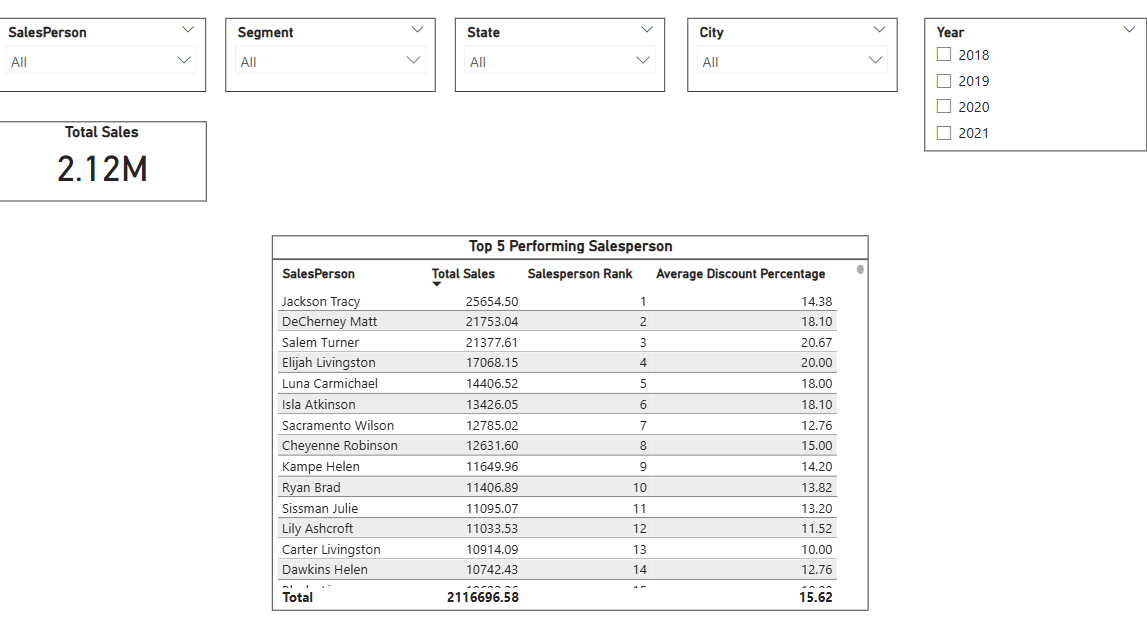

What the dashboard file says about the page in this screenshot:
{"tool":"powerbi","page":{"name":"Top Salespersons","canvas":[1280,720],"ordinal":4},"visuals":[{"type":"tableEx","title":"Top 5 Performing Salesperson","fields":{"Values":["SalesPerson.Sales_person","Orders.Total Sales","SalesPerson.Salesperson_Rank","Orders.Average_Discount_Percentage"]},"box":[306.9,261.6,662.7,416.8],"z":0},{"type":"slicer","fields":{"Values":["Orders.Year"]},"box":[1032.4,19.2,247.6,148.2],"z":1000},{"type":"slicer","fields":{"Values":["Orders.City"]},"box":[768.3,20,233.3,81.7],"z":2000},{"type":"slicer","fields":{"Values":["Orders.Segment"]},"box":[255,20,233.3,81.7],"z":3000},{"type":"slicer","fields":{"Values":["Sales Target.State"]},"box":[510,20,233.3,81.7],"z":4000},{"type":"slicer","fields":{"Values":["SalesPerson.Sales_person"]},"box":[0,20,233.3,81.7],"z":5000},{"type":"card","title":"Total Sales","fields":{"Values":["Orders.Total Sales"]},"box":[0,134.3,233.7,88.9],"z":6000}]}

Visuals, with their boxes in screenshot pixels (x1, y1, x2, y2), scaled from the page's 1280x720 canvas onto the 1147x643 screenshot:
"Top 5 Performing Salesperson" tableEx: [left=275, top=234, right=869, bottom=606]
slicer - Orders.Year: [left=925, top=17, right=1146, bottom=149]
slicer - Orders.City: [left=688, top=18, right=898, bottom=91]
slicer - Orders.Segment: [left=229, top=18, right=438, bottom=91]
slicer - Sales Target.State: [left=457, top=18, right=666, bottom=91]
slicer - SalesPerson.Sales_person: [left=0, top=18, right=209, bottom=91]
"Total Sales" card: [left=0, top=120, right=209, bottom=199]
